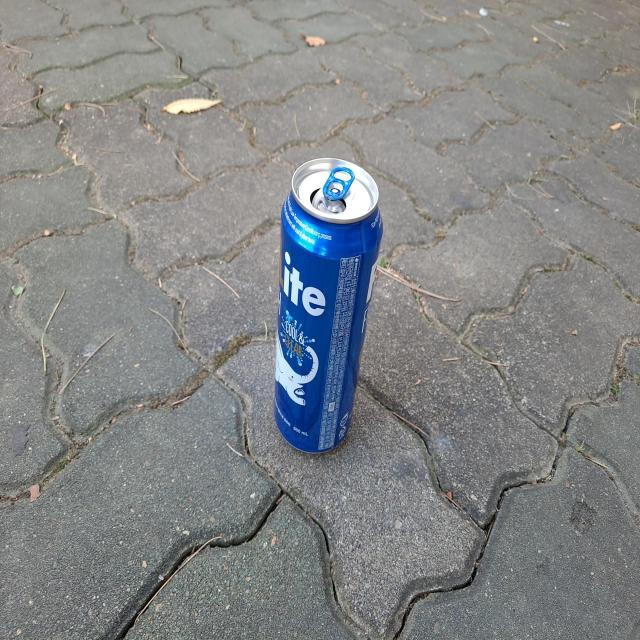can: (275, 157, 383, 453)
